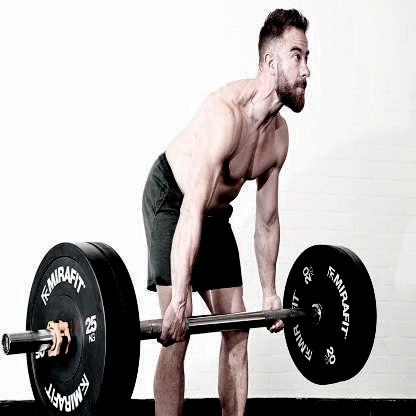Barbell: (2, 326, 18, 361)
